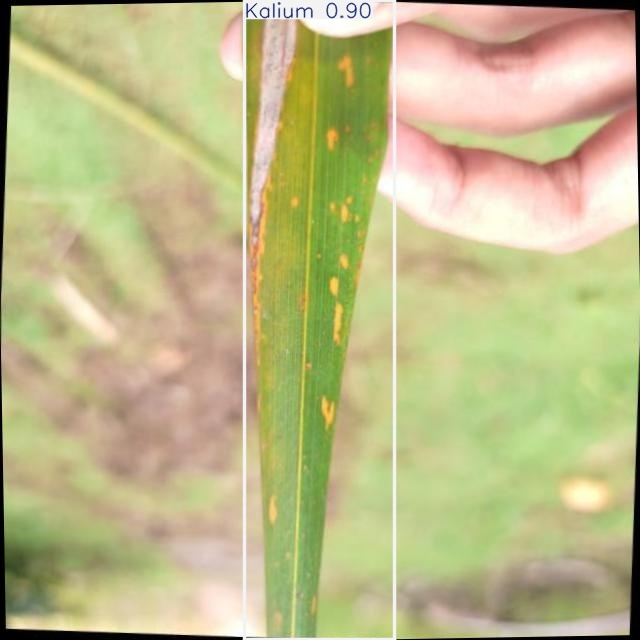Kalium: (245, 0, 395, 640)
